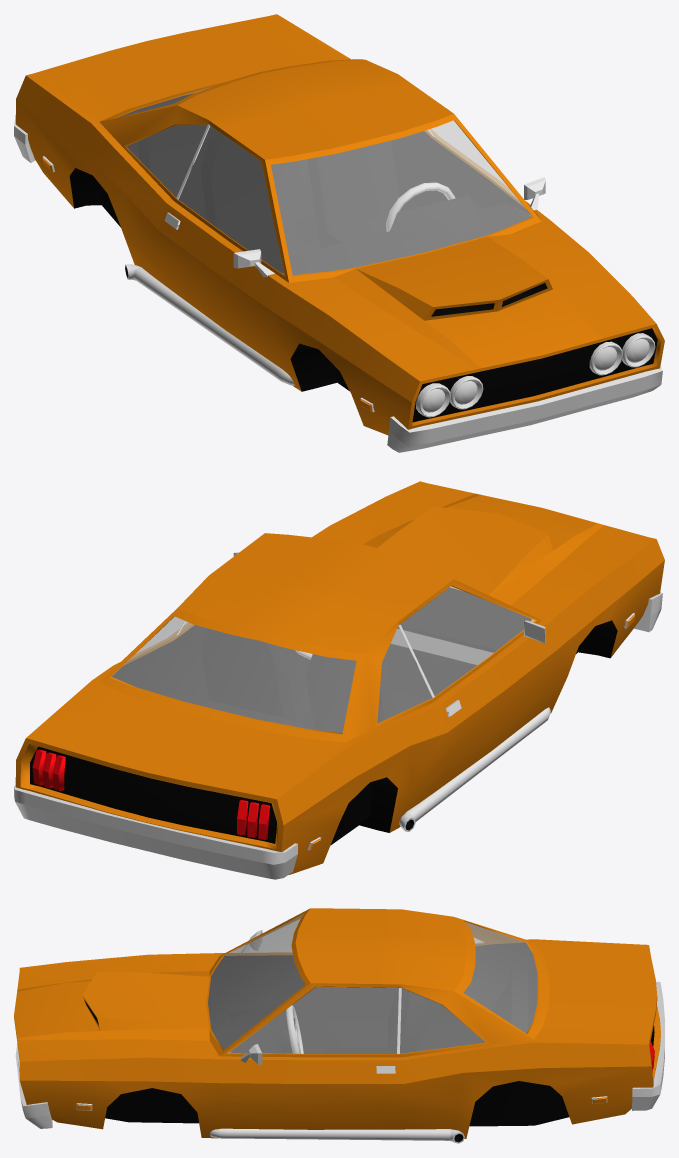
File: muscle_car.glb
The picture shows the model from 3 angles, top to bottom: view 1: azimuth 30°, elevation 25°; view 2: azimuth 150°, elevation 25°; view 3: azimuth 270°, elevation 25°; orthographic projection. The views are drawn at different scales.
Visible parts, largest first — view 1: Cube; view 2: Cube; view 3: Cube.
Part boxes in pixels (x1,y1,x2,y2): Cube: (14,14,664,452); Cube: (14,481,664,879); Cube: (14,908,664,1143).
Size of the model in its own units: 2.2 by 1.22 by 4.9.
